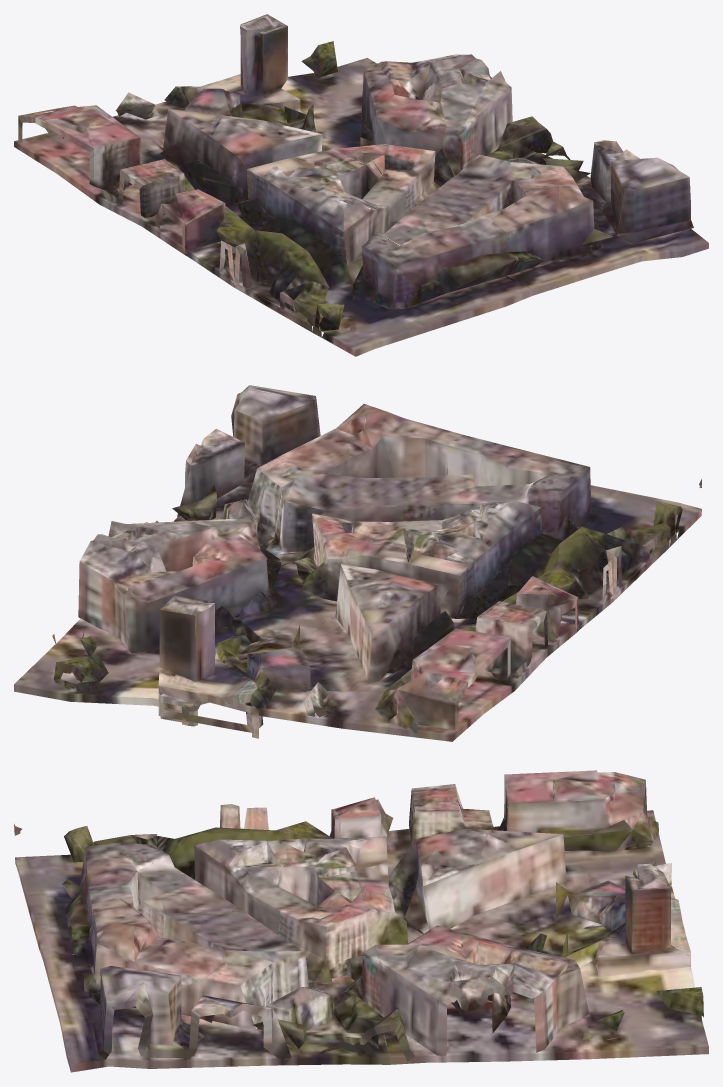
3 views of the same model, one above another, from view 1: azimuth 30°, elevation 25°; view 2: azimuth 150°, elevation 25°; view 3: azimuth 270°, elevation 25° (orthographic). The views are drawn at different scales.
Visible parts, largest first — view 1: Mesh_0; view 2: Mesh_0; view 3: Mesh_0.
Boxes of the visible parts, x1,y1,x2,y2 form: Mesh_0: [14, 14, 708, 356]; Mesh_0: [14, 385, 701, 741]; Mesh_0: [14, 770, 708, 1072].
Bounding box in the file's own units: 266 × 57.11 × 330.
Materials: 2 (2 with a texture image).
